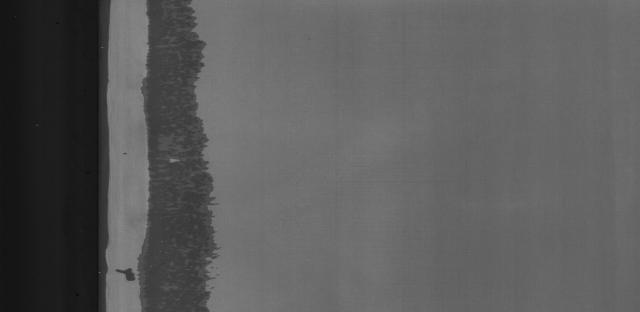oil_spot: (131, 4, 241, 312)
